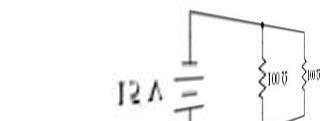resistor: (247, 50, 269, 101)
